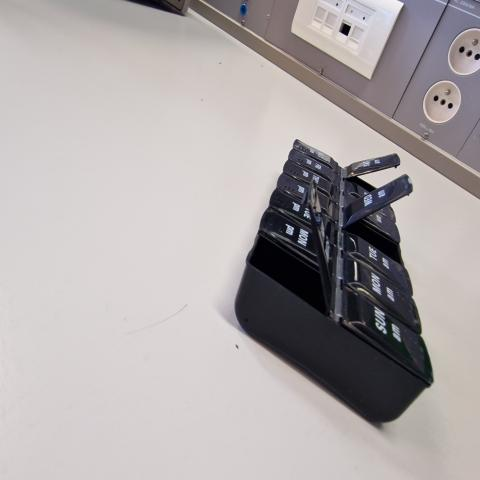Open: (249, 235, 329, 319), (348, 207, 403, 265), (350, 166, 396, 193)
